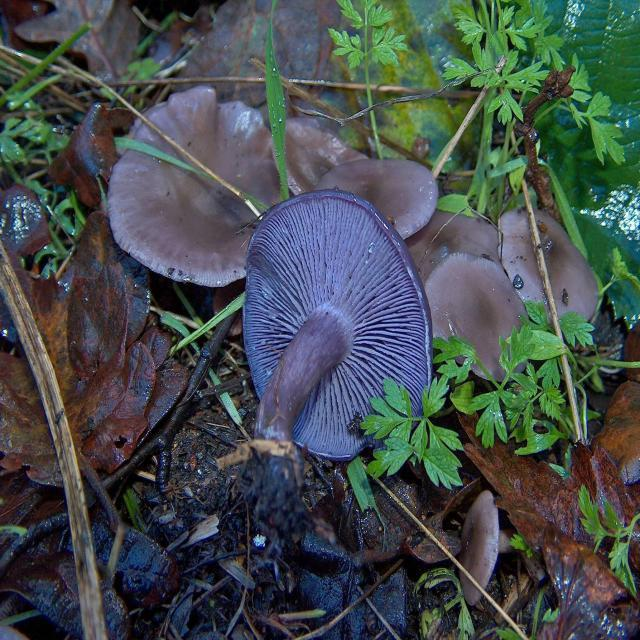Clitocybe maxima: (113, 85, 434, 289), (237, 192, 431, 478), (438, 211, 600, 392), (462, 471, 528, 599)
